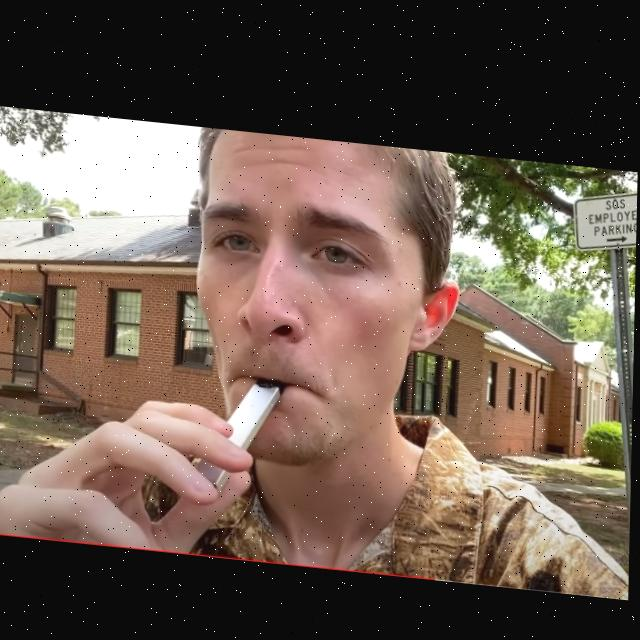vape: (196, 367, 287, 494)
